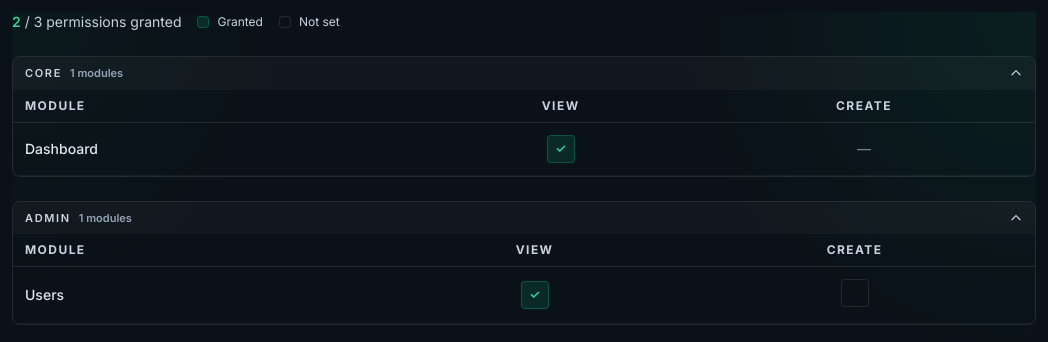
RolePermissionsEditor › shows error toast on network failure
This screenshot has width=1048, height=342.
Click the button "✓" in the row of "Dashboard": click(561, 148) [547,134,575,162]
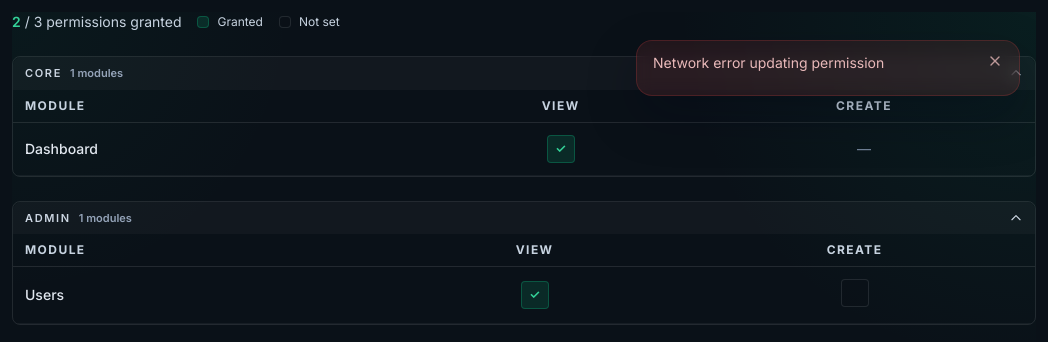
Check: the text "Network error updating permission" is shown, box [653,53,884,73]
